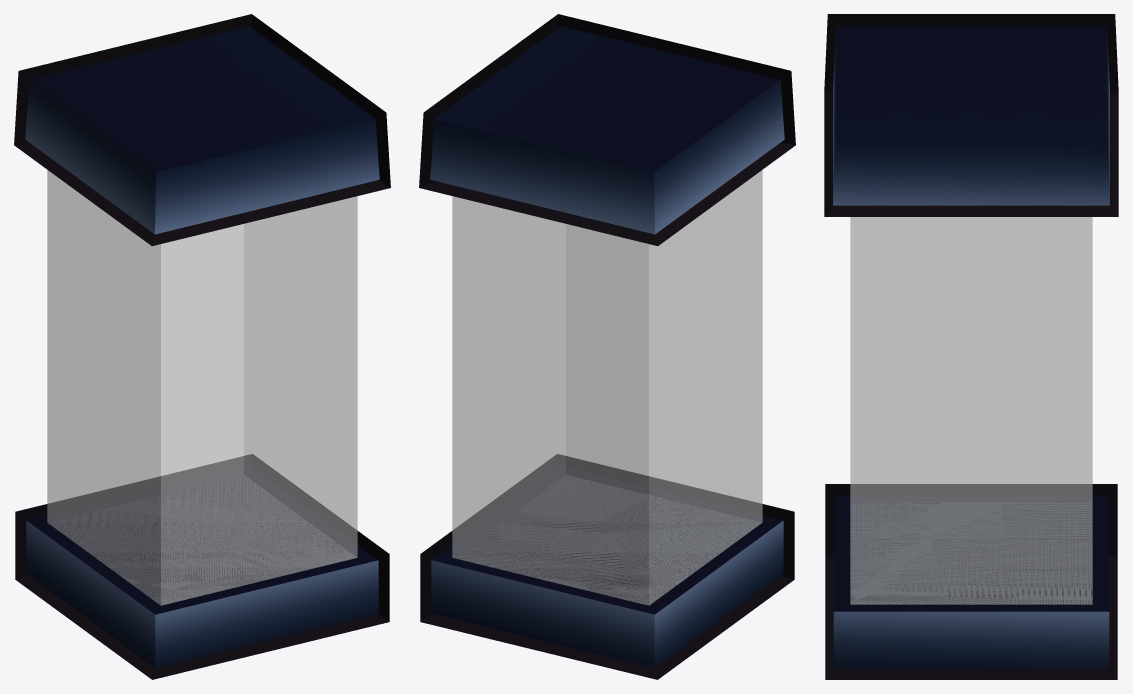
Rendered from Cabinet.fbx.
3 renders of one model, left to right at view 1: azimuth 30°, elevation 25°; view 2: azimuth 150°, elevation 25°; view 3: azimuth 270°, elevation 25°, orthographic. The views are drawn at different scales.
Visible parts, largest first — view 1: Cube.003; view 2: Cube.003; view 3: Cube.003.
Boxes of the visible parts, x1,y1,x2,y2 form: Cube.003: (14,14,390,679); Cube.003: (419,14,795,679); Cube.003: (824,14,1118,679).
Size of the model in its own units: 317 by 645 by 317.
3 materials, 1 textured.
